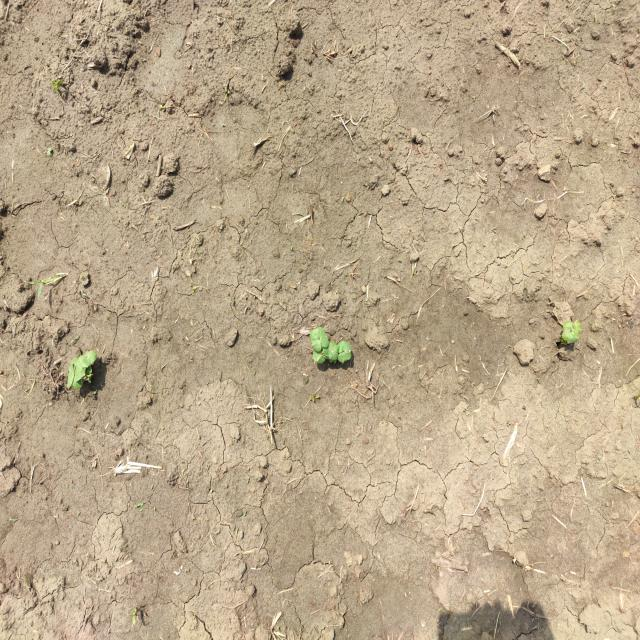seedling_s1: (67, 357, 77, 388), (81, 350, 97, 368), (310, 329, 321, 352), (317, 327, 329, 348), (567, 322, 578, 344), (75, 351, 88, 368), (324, 346, 338, 361), (562, 321, 572, 341), (74, 366, 86, 382), (338, 341, 351, 353), (313, 348, 323, 362), (337, 352, 351, 362), (328, 341, 339, 353), (317, 354, 329, 364), (73, 379, 83, 389), (575, 322, 581, 334)
